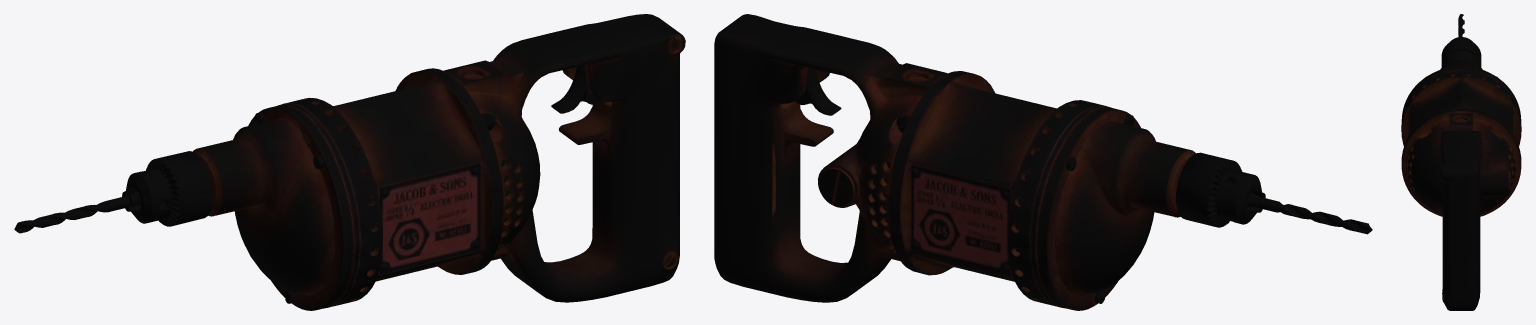
File: hand-drill.glb
3 views of the same model, side by side, from view 1: azimuth 30°, elevation 25°; view 2: azimuth 150°, elevation 25°; view 3: azimuth 270°, elevation 25° (orthographic). The views are drawn at different scales.
Visible parts, largest first — view 1: defaultMaterial, defaultMaterial.001; view 2: defaultMaterial, defaultMaterial.001; view 3: defaultMaterial.001, defaultMaterial.
Boxes of the visible parts, <box> form: defaultMaterial: <box>14,68,503,310</box>; defaultMaterial.001: <box>281,14,685,302</box>; defaultMaterial: <box>888,71,1372,310</box>; defaultMaterial.001: <box>714,14,1109,302</box>; defaultMaterial.001: <box>1401,77,1521,310</box>; defaultMaterial: <box>1401,14,1521,206</box>.
Bounding box in the file's own units: 0.3 × 0.1097 × 0.0827.
Materials: 2 (2 with a texture image).
